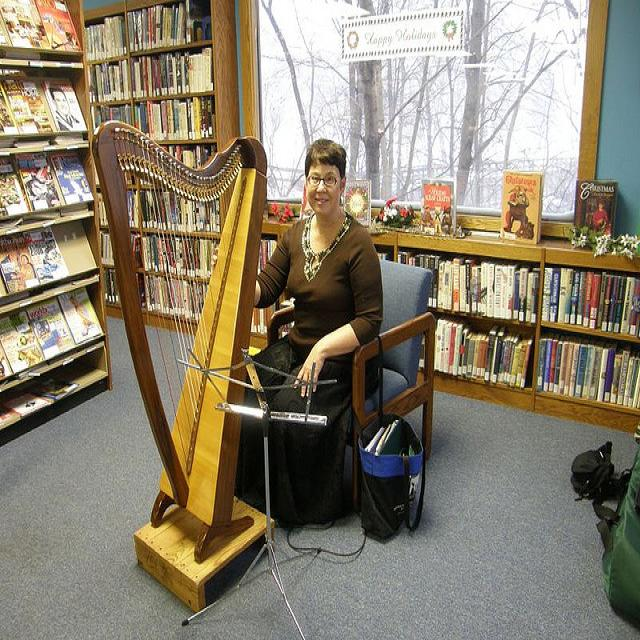harp: (88, 93, 273, 607)
